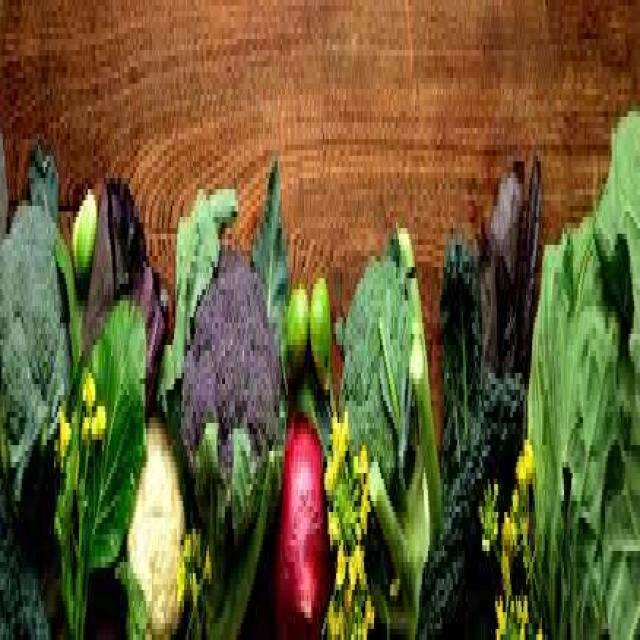organic waste: (528, 212, 638, 634), (180, 228, 286, 529), (364, 217, 438, 634), (418, 362, 529, 634), (0, 133, 72, 501), (79, 167, 166, 406), (190, 412, 281, 634), (76, 289, 145, 568), (156, 184, 237, 412), (338, 239, 408, 479), (475, 150, 538, 368), (270, 412, 329, 634), (129, 423, 187, 634), (596, 117, 639, 384), (435, 234, 478, 478), (251, 156, 288, 373), (0, 478, 50, 634), (54, 456, 82, 629), (294, 362, 334, 456), (308, 267, 330, 390), (280, 278, 308, 356), (69, 184, 95, 267), (500, 506, 524, 546), (518, 434, 534, 490), (513, 596, 536, 634), (478, 479, 497, 523), (171, 395, 181, 473), (491, 590, 507, 634), (497, 545, 511, 590), (196, 540, 209, 584), (358, 596, 373, 634), (324, 601, 340, 634), (339, 590, 354, 623), (74, 406, 88, 440), (182, 512, 194, 551), (344, 534, 354, 579), (338, 406, 349, 445), (332, 534, 343, 573), (352, 440, 367, 468), (324, 451, 336, 484), (57, 406, 70, 434), (91, 401, 102, 434), (79, 373, 90, 401), (330, 406, 338, 440), (356, 551, 364, 584), (510, 478, 520, 501), (359, 490, 367, 518), (326, 501, 336, 523), (174, 562, 181, 584)
